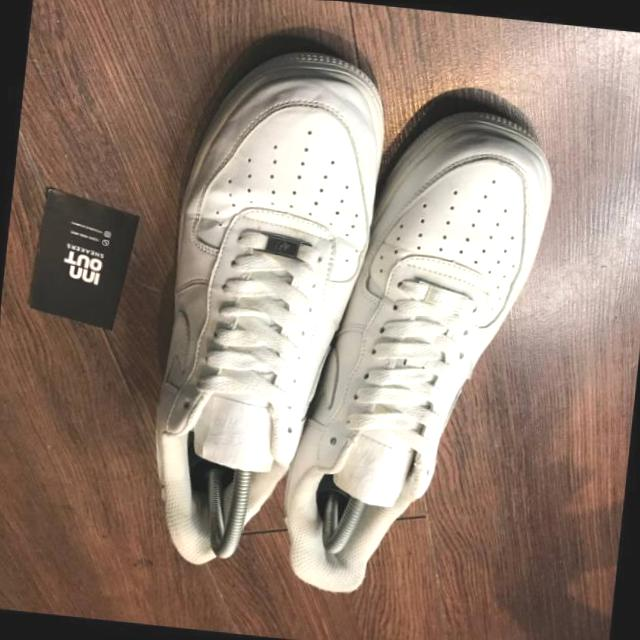nike_fake_airforce: (266, 88, 560, 610), (124, 32, 391, 590)
